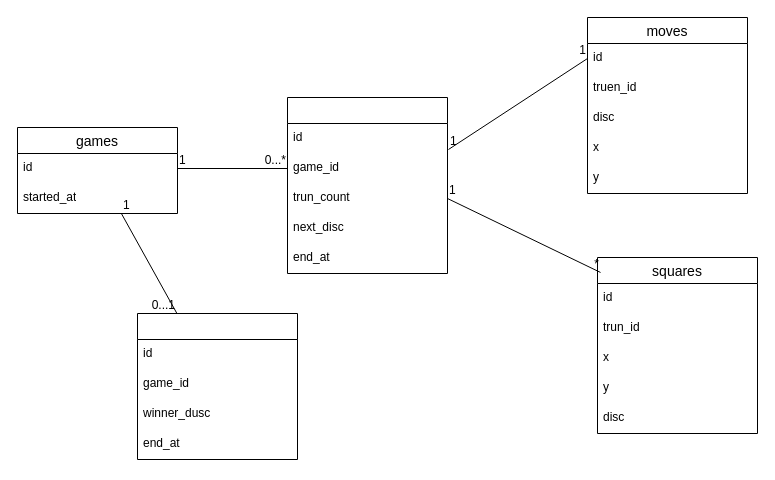
Image size: 775x480. Some labels were removed from this diagram. Here are the shapes that lost their labels. From the top down, the box of each, then its label:
(286, 96, 448, 274): turns
(136, 312, 298, 460): game_results
